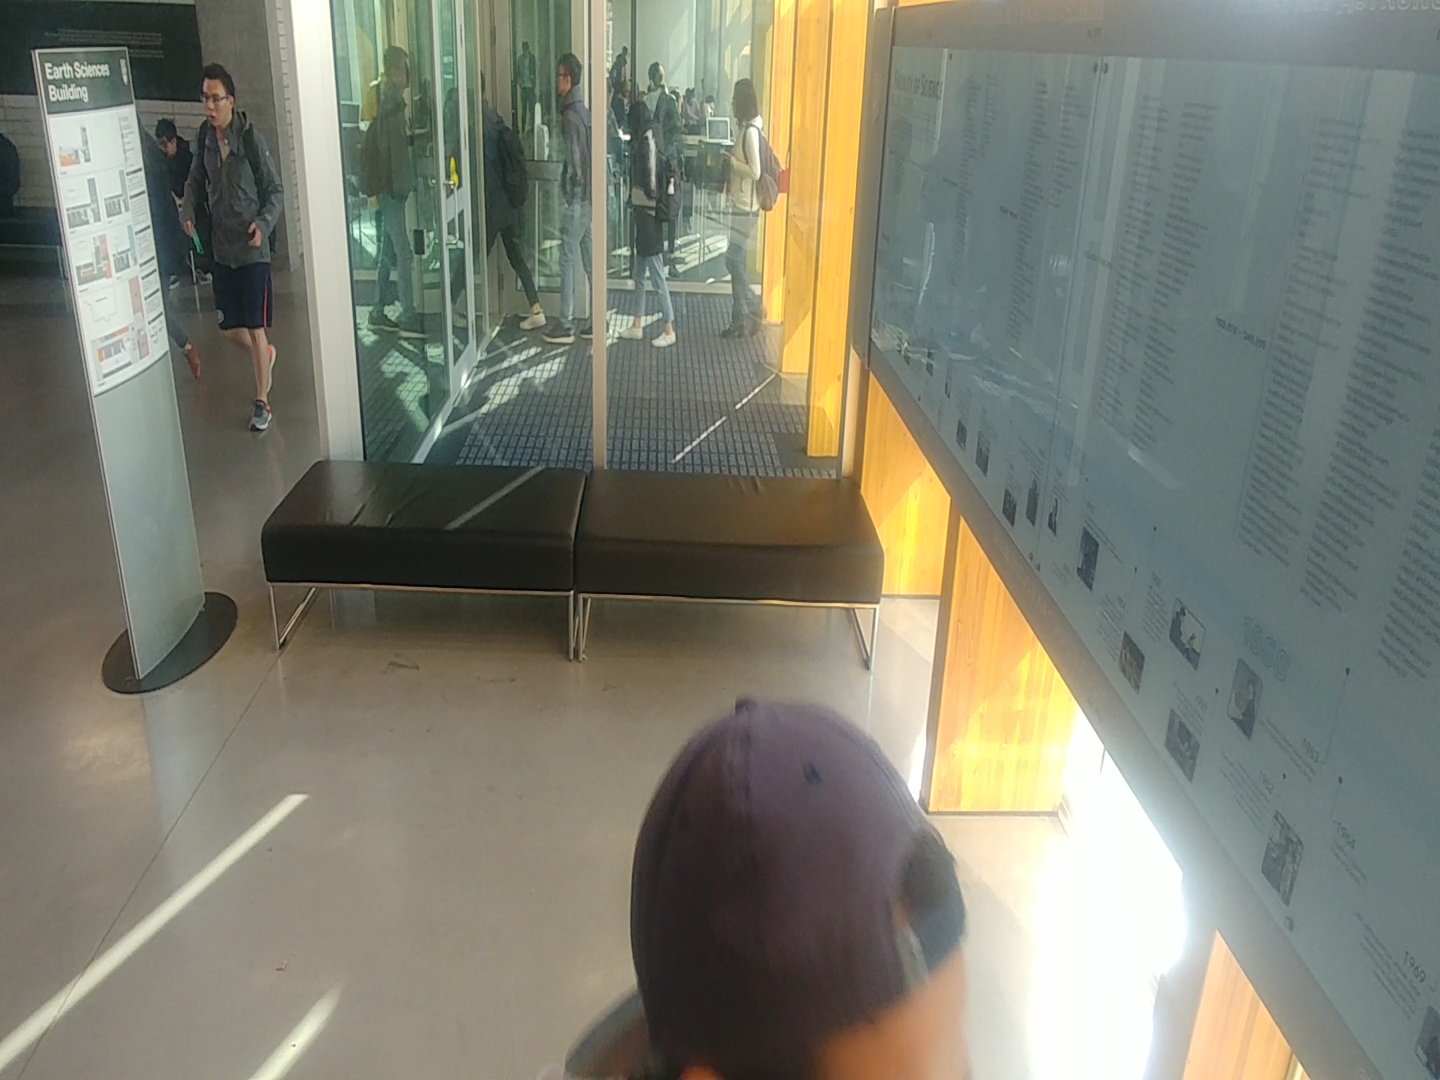face: (187, 60, 249, 130), (719, 68, 766, 131), (546, 43, 592, 106), (611, 92, 661, 147), (147, 107, 187, 160)
human: (169, 49, 292, 440), (350, 32, 440, 352), (714, 69, 789, 354), (612, 94, 685, 350), (541, 41, 597, 343)
